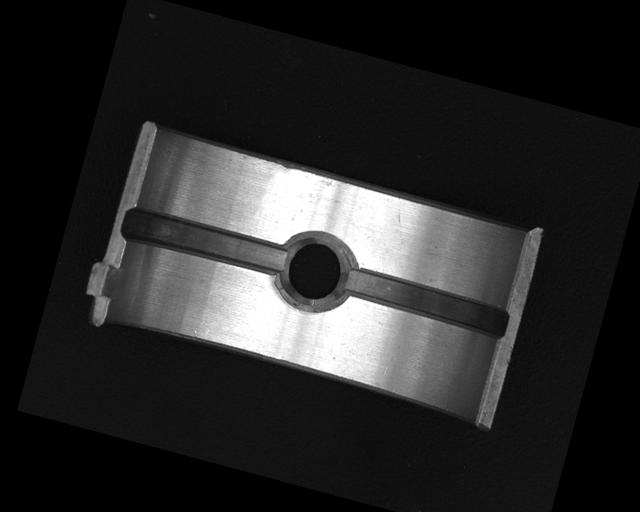gap: (336, 262, 513, 343), (118, 202, 290, 280)
hole: (270, 224, 361, 319)
